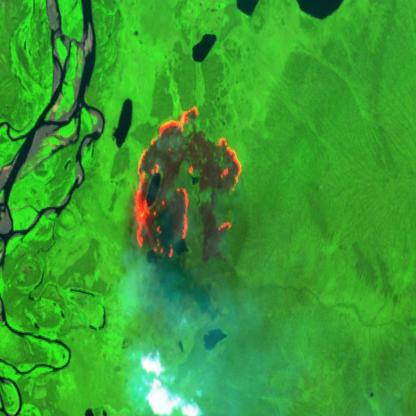fire: (132, 102, 244, 262)
